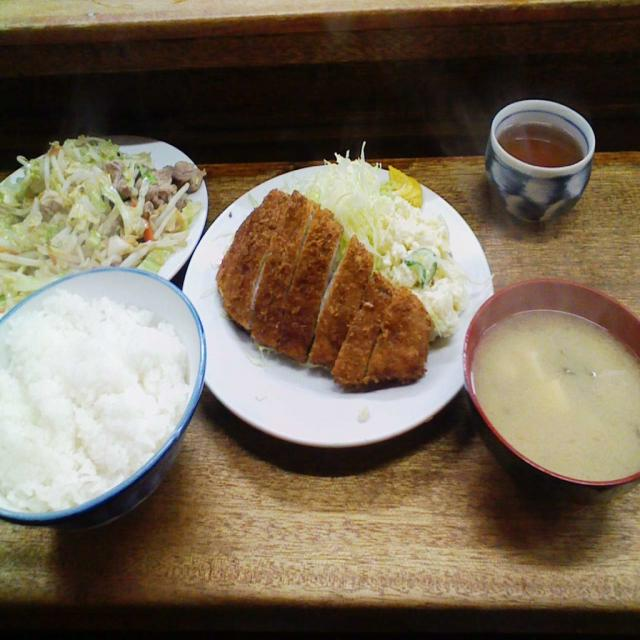Coffee: (498, 122, 584, 171)
Tea: (494, 120, 584, 169)
